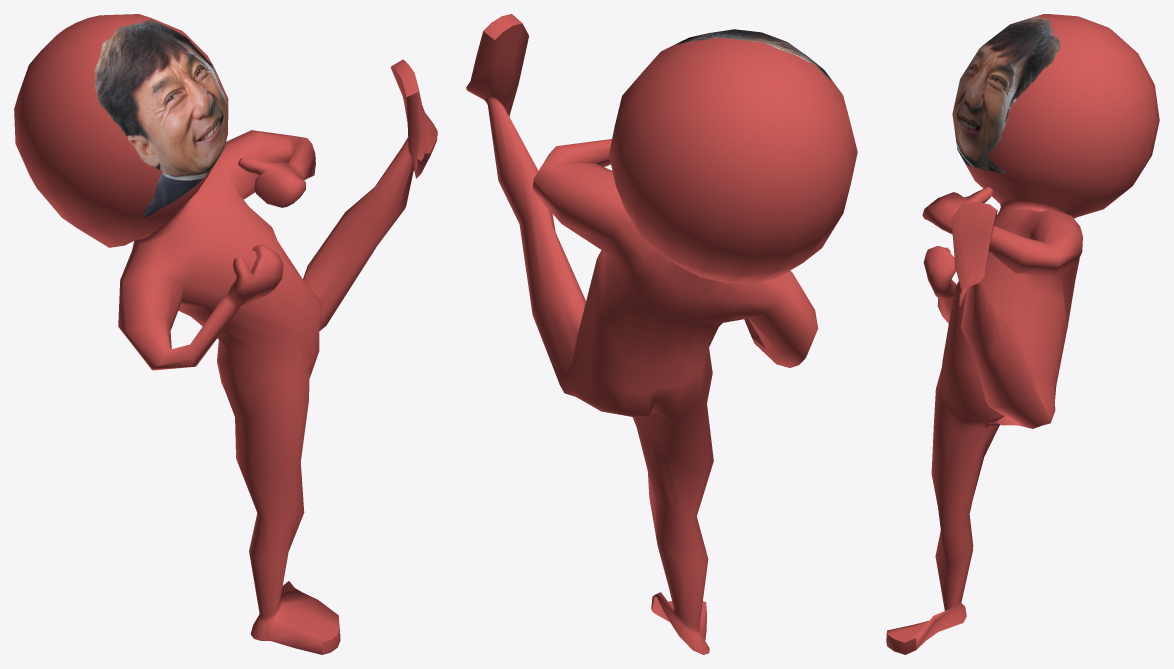
The model's file is hwan_jackie_chan.obj.
3 renders of one model, left to right at view 1: azimuth 30°, elevation 25°; view 2: azimuth 150°, elevation 25°; view 3: azimuth 270°, elevation 25°, orthographic. The views are drawn at different scales.
Visible parts, largest first — view 1: Virtual_Man; view 2: Virtual_Man; view 3: Virtual_Man.
Boxes of the visible parts, <box> form: Virtual_Man: <box>14,14,437,654</box>; Virtual_Man: <box>466,14,857,654</box>; Virtual_Man: <box>886,14,1159,654</box>.
Bounding box in the file's own units: 1.25 × 1.95 × 0.851.
